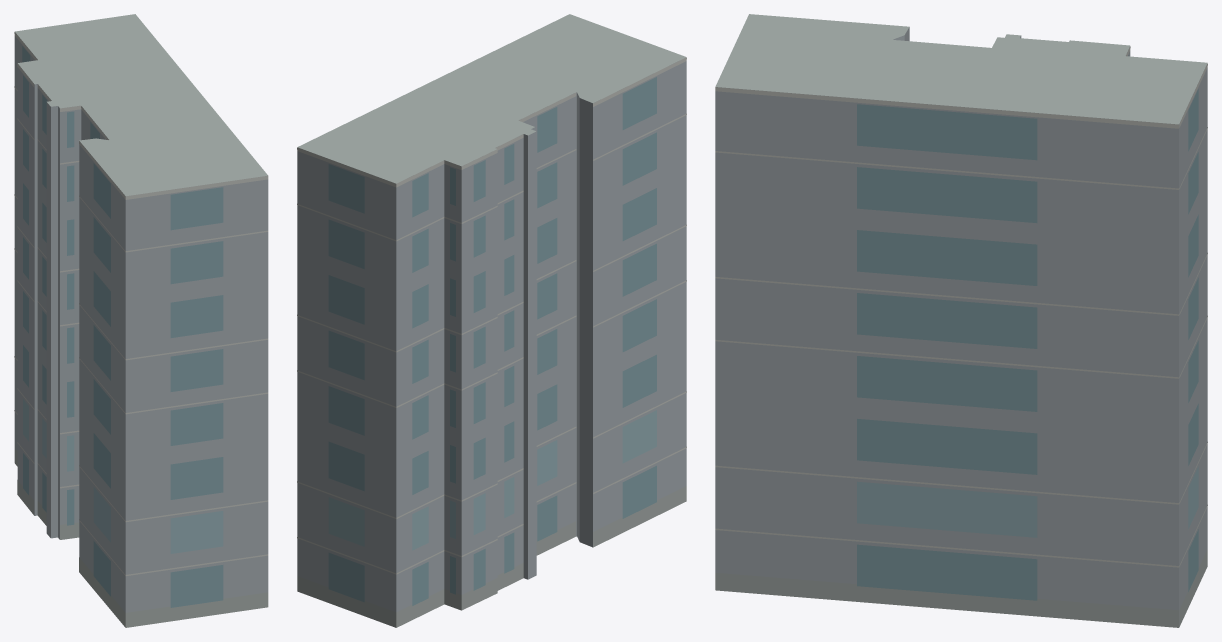
Rendered from survey-upis-32795369.glb.
The picture shows the model from 3 angles, left to right: view 1: azimuth 30°, elevation 25°; view 2: azimuth 150°, elevation 25°; view 3: azimuth 270°, elevation 25°; orthographic projection. The views are drawn at different scales.
Parts seen in each view (by area): view 1: survey-upis-32795369.tmp; view 2: survey-upis-32795369.tmp; view 3: survey-upis-32795369.tmp.
Part boxes in pixels (<box>): survey-upis-32795369.tmp: <box>14,14,268,627</box>; survey-upis-32795369.tmp: <box>297,14,686,627</box>; survey-upis-32795369.tmp: <box>715,14,1207,627</box>.
Size of the model in its own units: 13.29 by 28.2 by 25.02.
